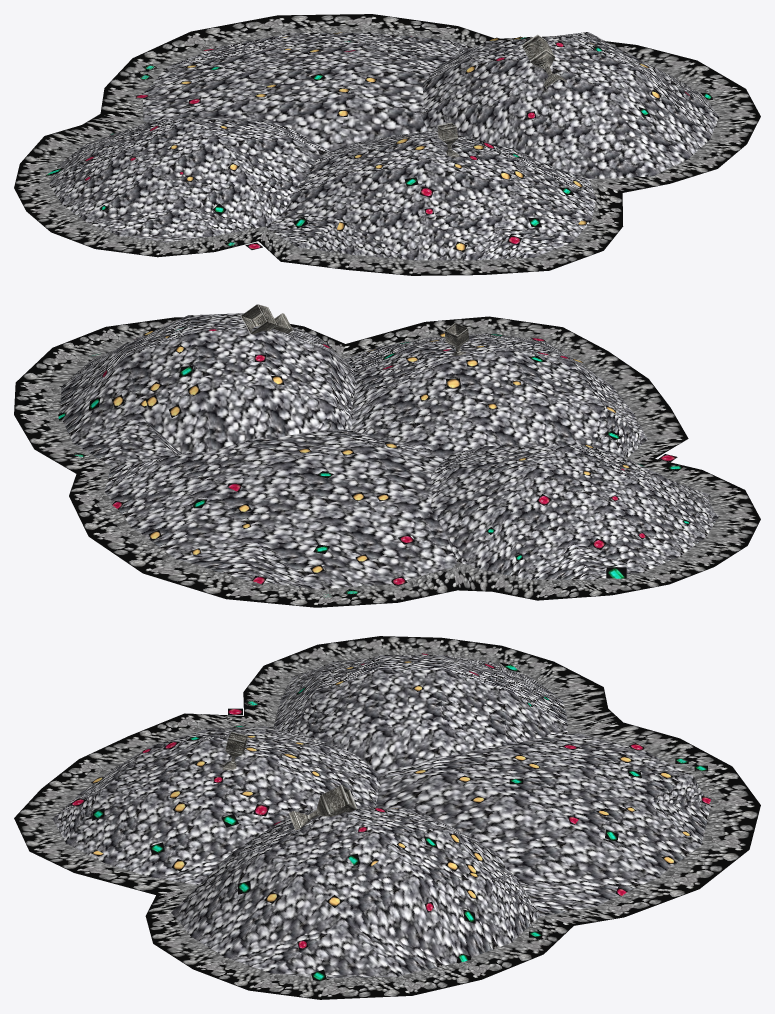
Rendered from treasureTrough.fbx.
The picture shows the model from 3 angles, top to bottom: view 1: azimuth 30°, elevation 25°; view 2: azimuth 150°, elevation 25°; view 3: azimuth 270°, elevation 25°; orthographic projection. The views are drawn at different scales.
Parts seen in each view (by area): view 1: coin_pile, pile_edge, prop1, prop; view 2: coin_pile, pile_edge, prop1, prop; view 3: coin_pile, pile_edge, prop1.
Boxes of the visible parts, x1,y1,x2,y2 form: coin_pile: (49,32,718,260); pile_edge: (14,14,760,275); prop1: (522,34,567,89); prop: (437,122,459,157); coin_pile: (60,313,718,589); pile_edge: (14,316,760,607); prop1: (241,304,292,334); prop: (444,322,469,355); coin_pile: (52,655,710,978); pile_edge: (14,636,760,999); prop1: (288,785,357,830).
Bounding box in the file's own units: 1796 × 254 × 1558.
2 materials, 2 textured.
